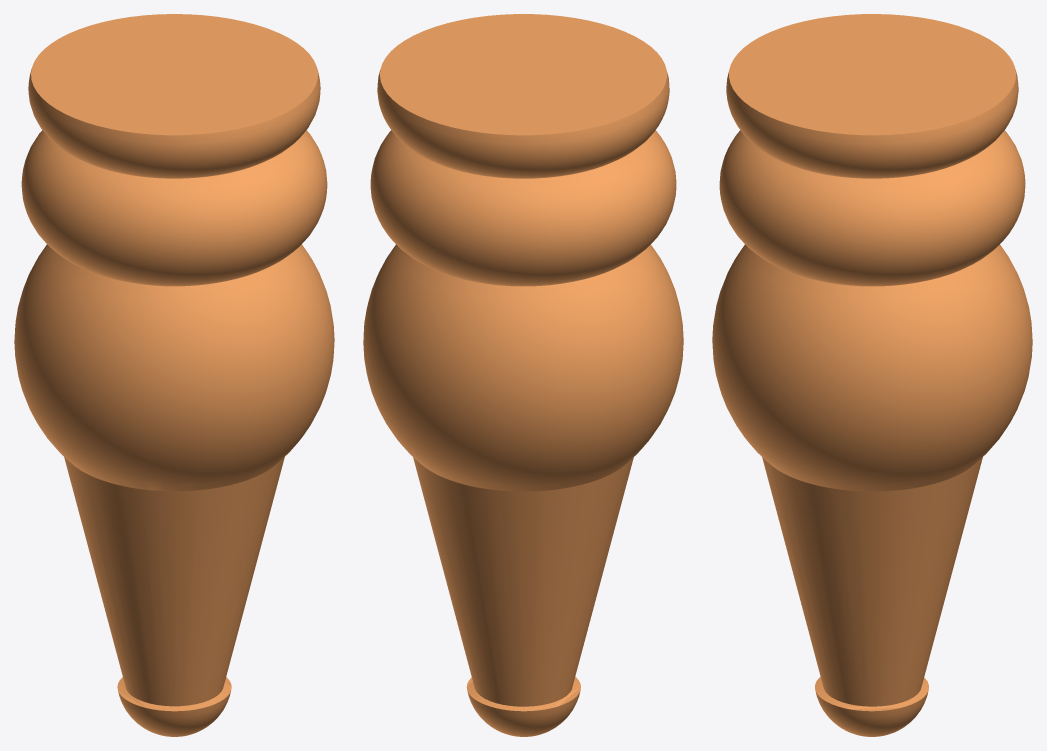
File: original-39.obj
3 views of the same model, side by side, from view 1: azimuth 30°, elevation 25°; view 2: azimuth 150°, elevation 25°; view 3: azimuth 270°, elevation 25° (orthographic).
Visible parts, largest first — view 1: mesh50/mesh50-geometry#mesh50-geometry; view 2: mesh50/mesh50-geometry#mesh50-geometry; view 3: mesh50/mesh50-geometry#mesh50-geometry.
Part boxes in pixels (box(x1,y1,x2,y2)): mesh50/mesh50-geometry#mesh50-geometry: box(14, 14, 334, 736); mesh50/mesh50-geometry#mesh50-geometry: box(363, 14, 683, 736); mesh50/mesh50-geometry#mesh50-geometry: box(712, 14, 1032, 736).
Bounding box in the file's own units: 0.00686 × 0.0155 × 0.00686.
